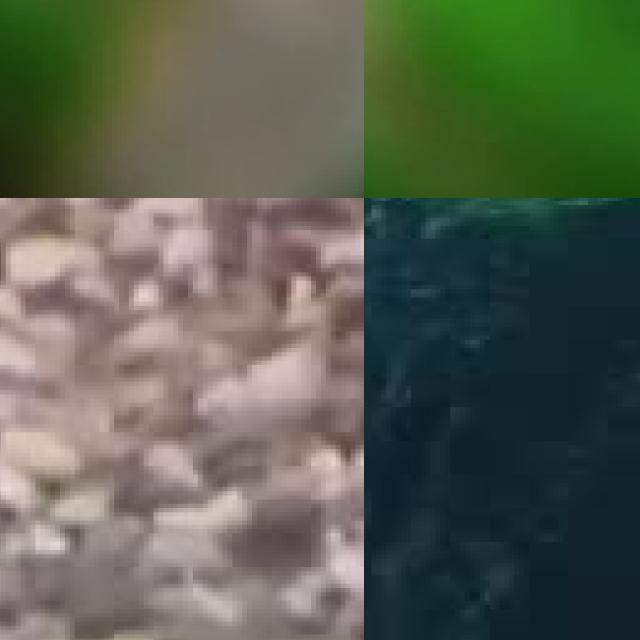fish: (0, 0, 364, 198)
